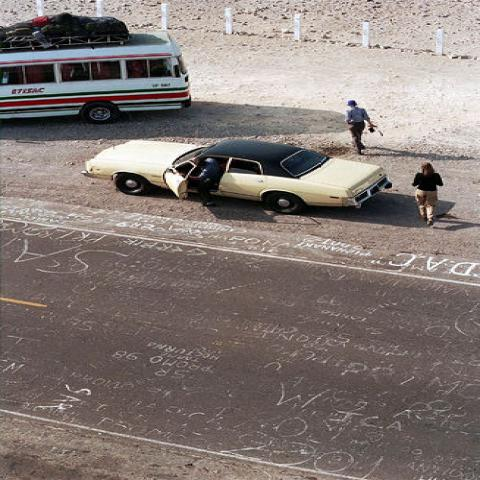bus: (5, 14, 193, 124)
car: (80, 138, 393, 213)
